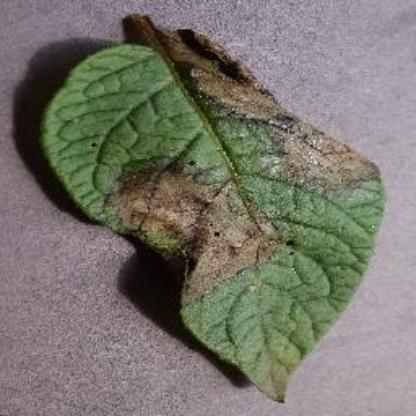Late-Blight: (8, 6, 408, 412)
